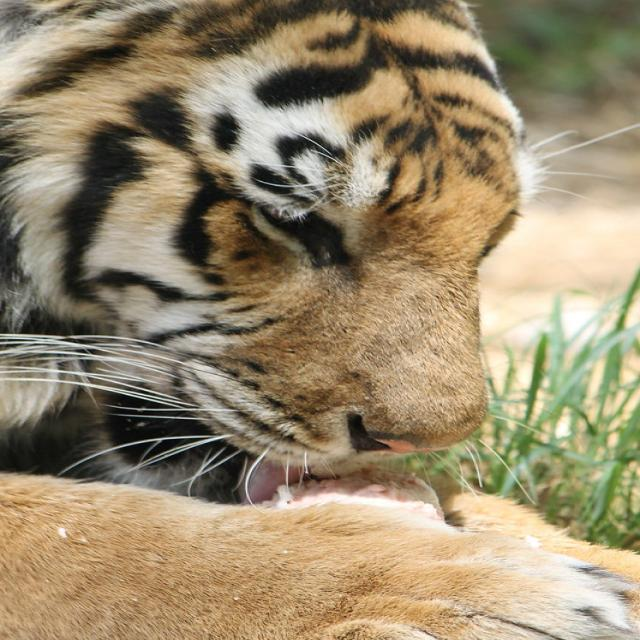Tiger: (0, 0, 635, 638)
